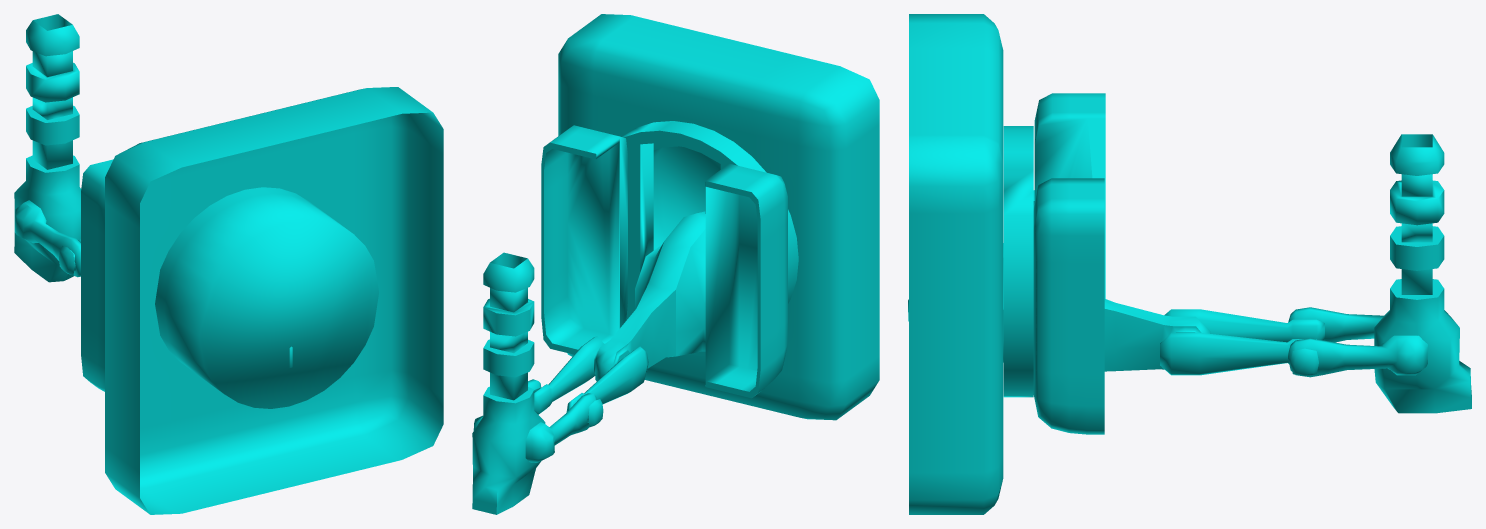
The model's file is gauss_91.dae.
3 views of the same model, side by side, from view 1: azimuth 30°, elevation 25°; view 2: azimuth 150°, elevation 25°; view 3: azimuth 270°, elevation 25° (orthographic). The views are drawn at different scales.
Visible parts, largest first — view 1: Concrete, lidRight, Cannon, Barrel3, Barrel1, Barrel2, Hand; view 2: Concrete, lidLeft, lidRight, Wheel, Belt, Cannon, Arm, Barrel3, Hand, Barrel1, Barrel2; view 3: Concrete, lidLeft, Belt, Cannon, Arm, lidRight, Hand, Wheel, Barrel3, Barrel1, Barrel2.
Part boxes in pixels (box(x1,y1,x2,y2)): Concrete: box(105, 87, 443, 514); lidRight: box(81, 159, 113, 391); Cannon: box(14, 155, 81, 282); Barrel3: box(26, 14, 79, 76); Barrel1: box(26, 105, 79, 169); Barrel2: box(26, 62, 79, 119); Hand: box(14, 200, 80, 277); Concrete: box(558, 14, 879, 420); lidLeft: box(541, 125, 627, 354); lidRight: box(705, 163, 787, 398); Wheel: box(594, 211, 705, 381); Belt: box(621, 121, 798, 355); Cannon: box(472, 386, 545, 514); Arm: box(534, 336, 648, 426); Barrel3: box(483, 252, 534, 312); Hand: box(473, 379, 596, 462); Barrel1: box(483, 339, 534, 400); Barrel2: box(483, 298, 534, 353); Concrete: box(909, 14, 1003, 514); lidLeft: box(1033, 178, 1104, 434); Belt: box(1003, 126, 1033, 397); Cannon: box(1374, 279, 1471, 413); Arm: box(1160, 309, 1324, 376); lidRight: box(1033, 93, 1105, 298); Hand: box(1288, 307, 1427, 377); Wheel: box(908, 243, 1210, 371); Barrel3: box(1390, 134, 1444, 196); Barrel1: box(1390, 226, 1444, 294); Barrel2: box(1390, 180, 1444, 242).
Bounding box in the file's own units: 38.12 × 57.68 × 41.53.
